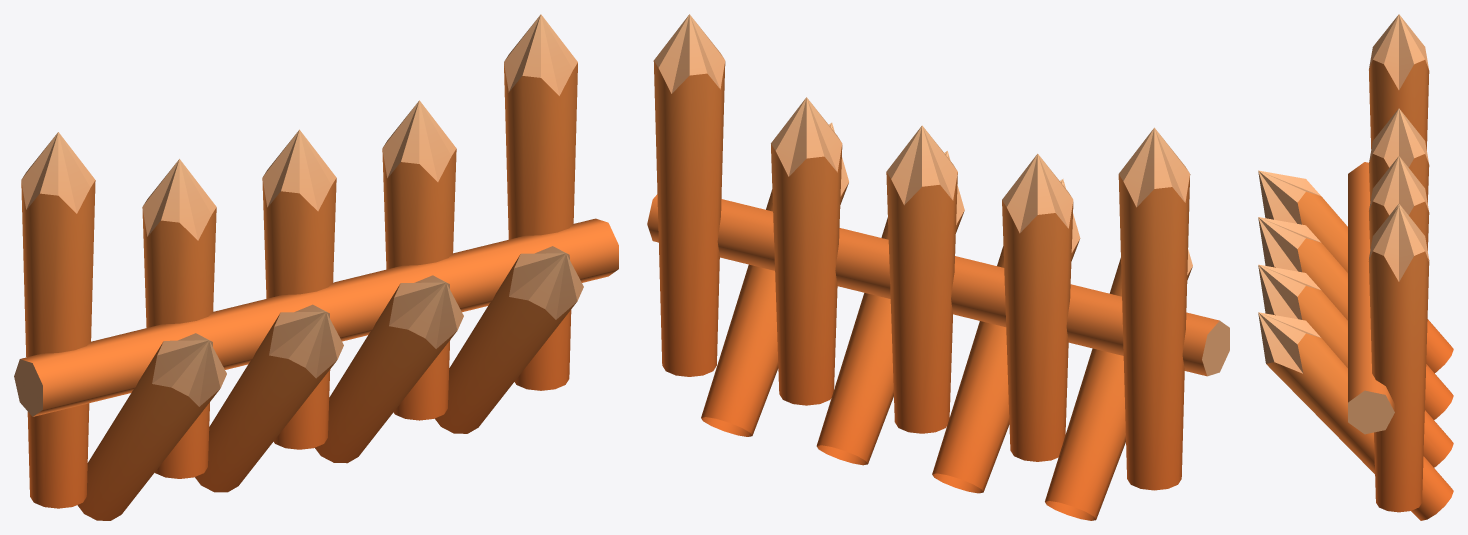
File: Props_Wooden_Barrier_02.fbx
3 renders of one model, left to right at view 1: azimuth 30°, elevation 25°; view 2: azimuth 150°, elevation 25°; view 3: azimuth 270°, elevation 25°, orthographic. The views are drawn at different scales.
Visible parts, largest first — view 1: Props_Wooden_Barrier_02; view 2: Props_Wooden_Barrier_02; view 3: Props_Wooden_Barrier_02.
Boxes of the visible parts, x1,y1,x2,y2 form: Props_Wooden_Barrier_02: (14,14,618,520); Props_Wooden_Barrier_02: (647,14,1229,520); Props_Wooden_Barrier_02: (1258,14,1453,520).
Size of the model in its own units: 200 by 137 by 72.33.
